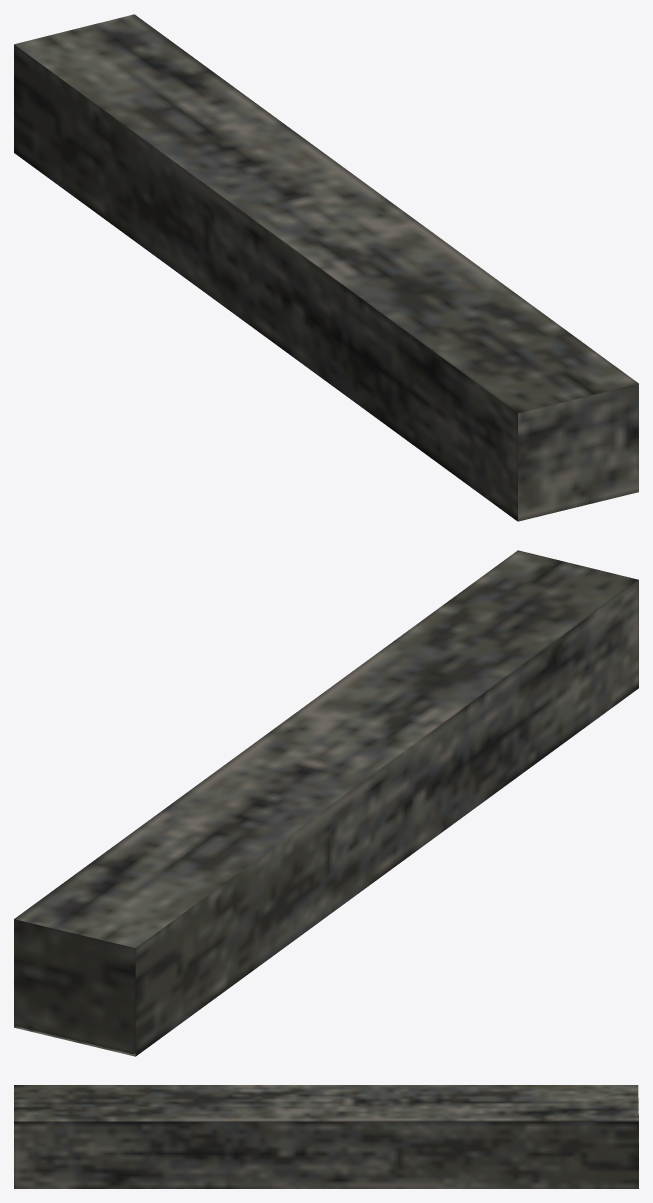
Rendered from SM_EC_Fence_Part_00.fbx.
The picture shows the model from 3 angles, top to bottom: view 1: azimuth 30°, elevation 25°; view 2: azimuth 150°, elevation 25°; view 3: azimuth 270°, elevation 25°; orthographic projection. The views are drawn at different scales.
Parts seen in each view (by area): view 1: SM_EC_Fence_Part_00; view 2: SM_EC_Fence_Part_00; view 3: SM_EC_Fence_Part_00.
Part boxes in pixels (box(x1,y1,x2,y2)): SM_EC_Fence_Part_00: box(14, 14, 638, 521); SM_EC_Fence_Part_00: box(14, 550, 638, 1056); SM_EC_Fence_Part_00: box(14, 1085, 638, 1188).
Size of the model in its own units: 0.2335 by 1.68 by 0.2.
